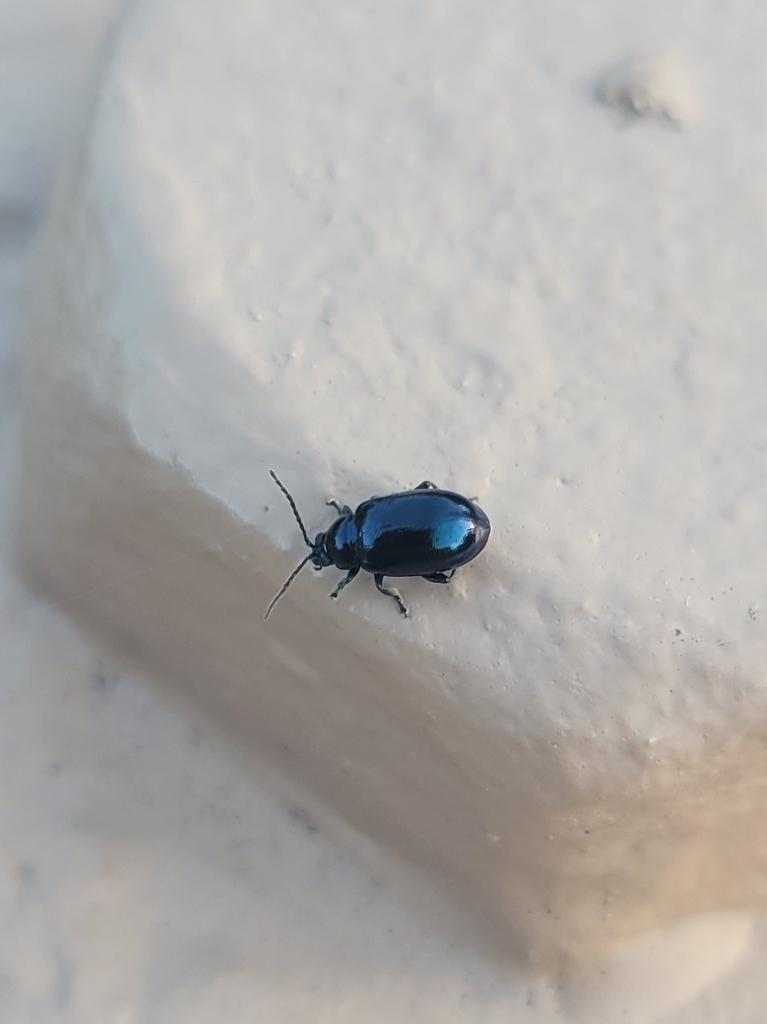flea_beetle: (194, 406, 532, 654)
